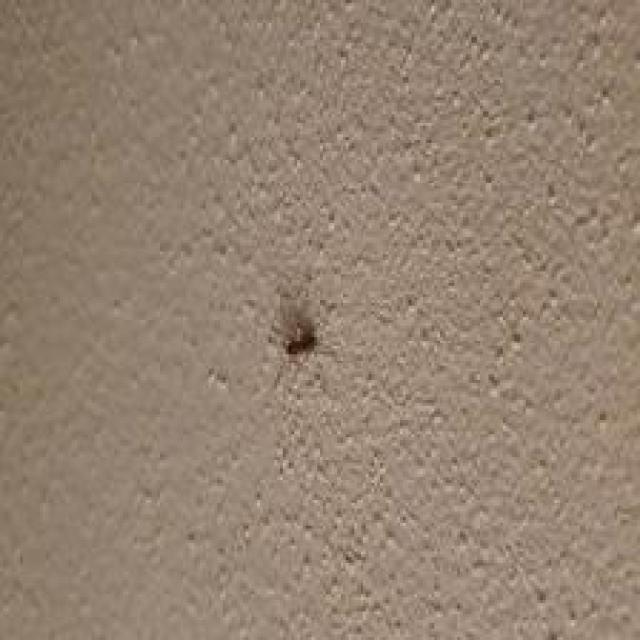Culex: (283, 323, 317, 357)
